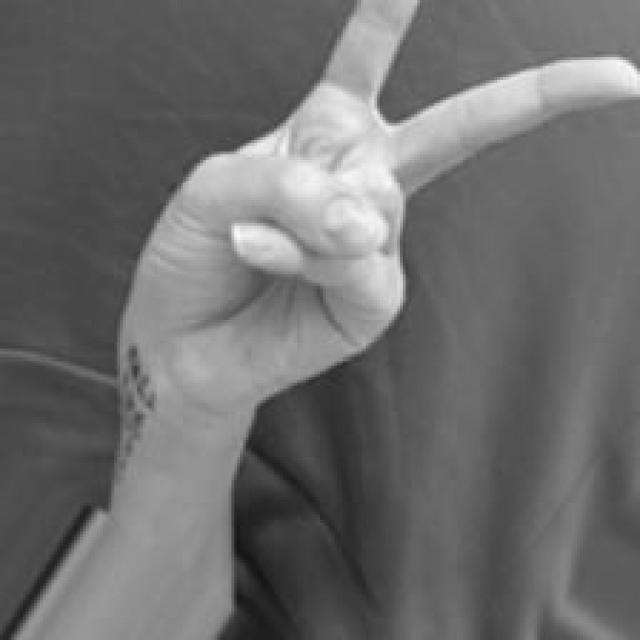V: (126, 0, 640, 392)
